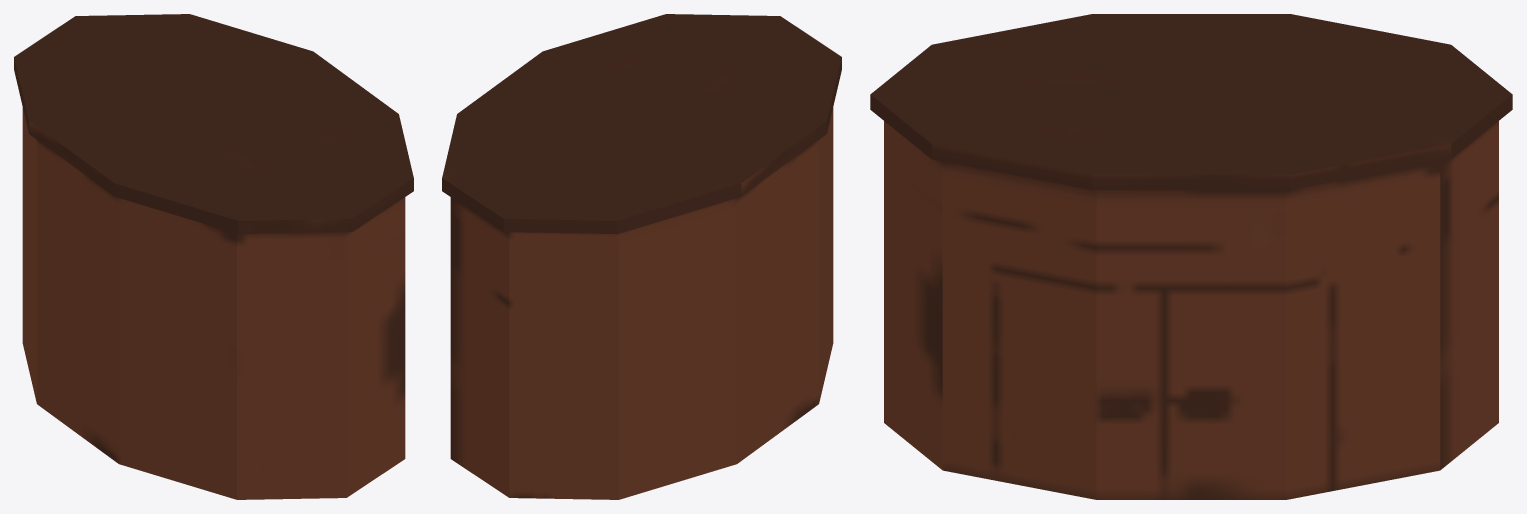
Rendered from cabinent.glb.
3 renders of one model, left to right at view 1: azimuth 30°, elevation 25°; view 2: azimuth 150°, elevation 25°; view 3: azimuth 270°, elevation 25°, orthographic. The views are drawn at different scales.
Visible parts, largest first — view 1: Captains Desk; view 2: Captains Desk; view 3: Captains Desk.
Boxes of the visible parts, <box> form: Captains Desk: <box>14,14,413,499</box>; Captains Desk: <box>442,14,841,499</box>; Captains Desk: <box>870,14,1512,499</box>.
Size of the model in its own units: 1.19 by 1.13 by 2.
1 material, 1 textured.
